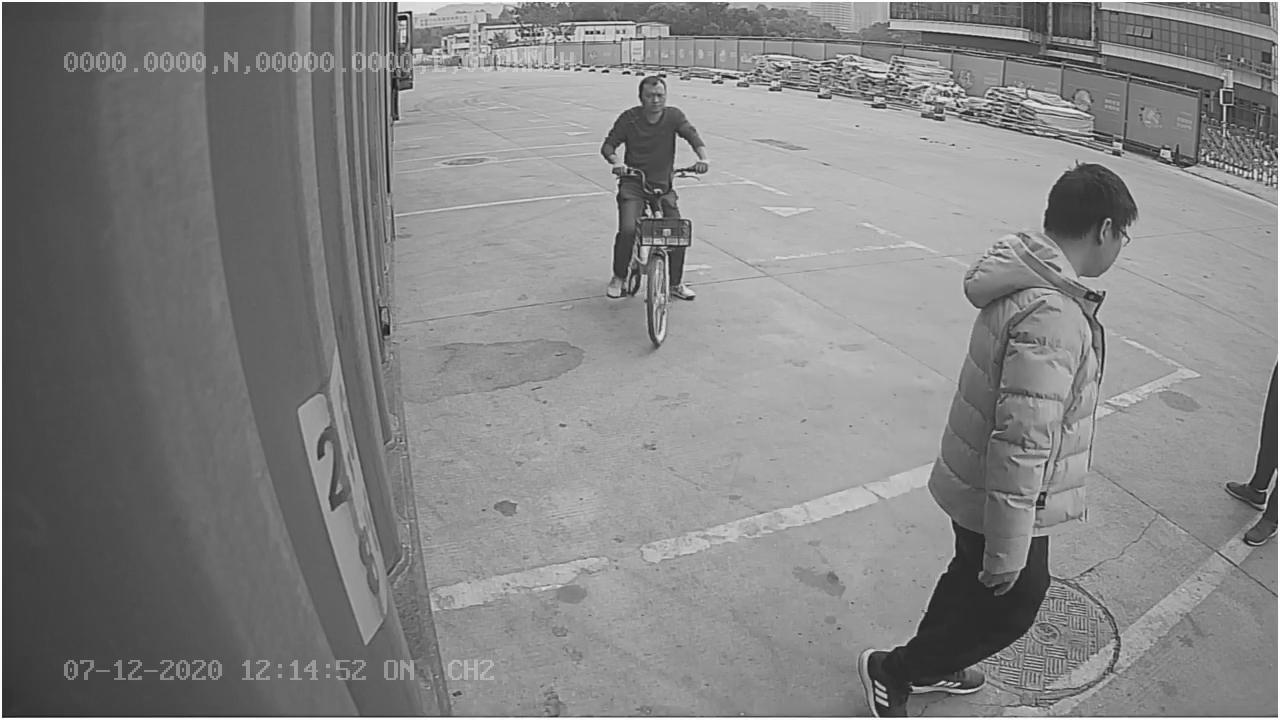person: (855, 129, 1138, 714)
